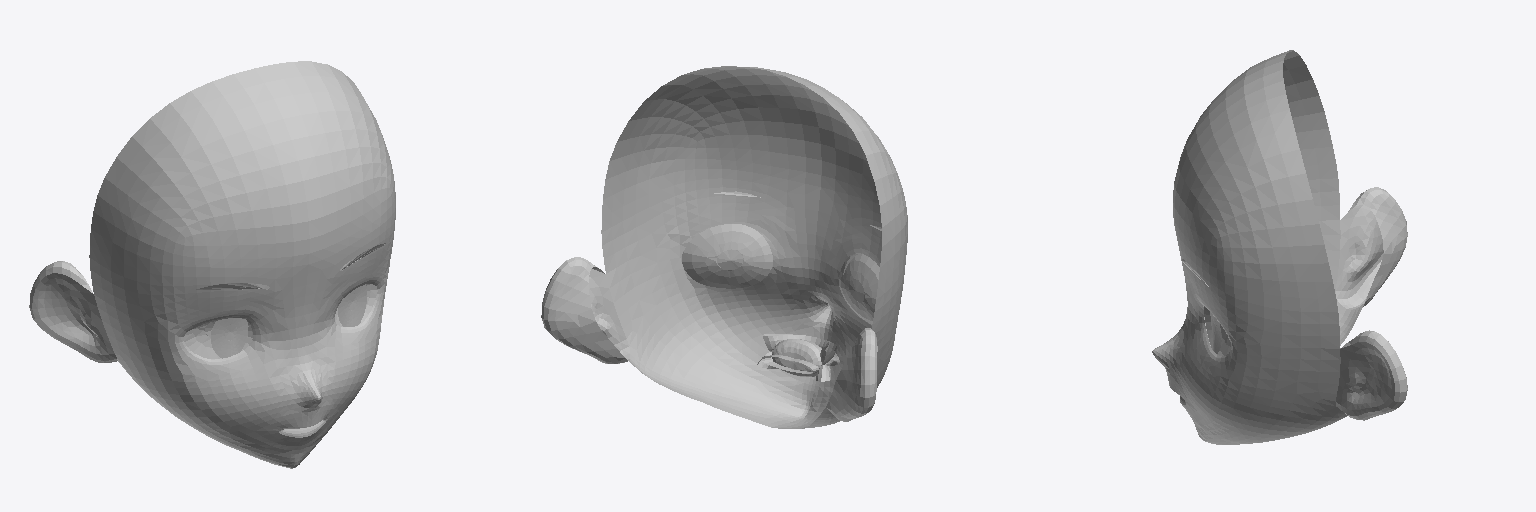
Rendered from eyeLookInRight.obj.
3 views of the same model, side by side, from view 1: azimuth 30°, elevation 25°; view 2: azimuth 150°, elevation 25°; view 3: azimuth 270°, elevation 25° (orthographic).
Parts seen in each view (by area): view 1: Face; view 2: Face; view 3: Face.
Part boxes in pixels (x1,y1,x2,y2): Face: (29, 61, 395, 468); Face: (541, 66, 907, 428); Face: (1152, 50, 1407, 444).
Size of the model in its own units: 0.2176 by 0.2333 by 0.1449.